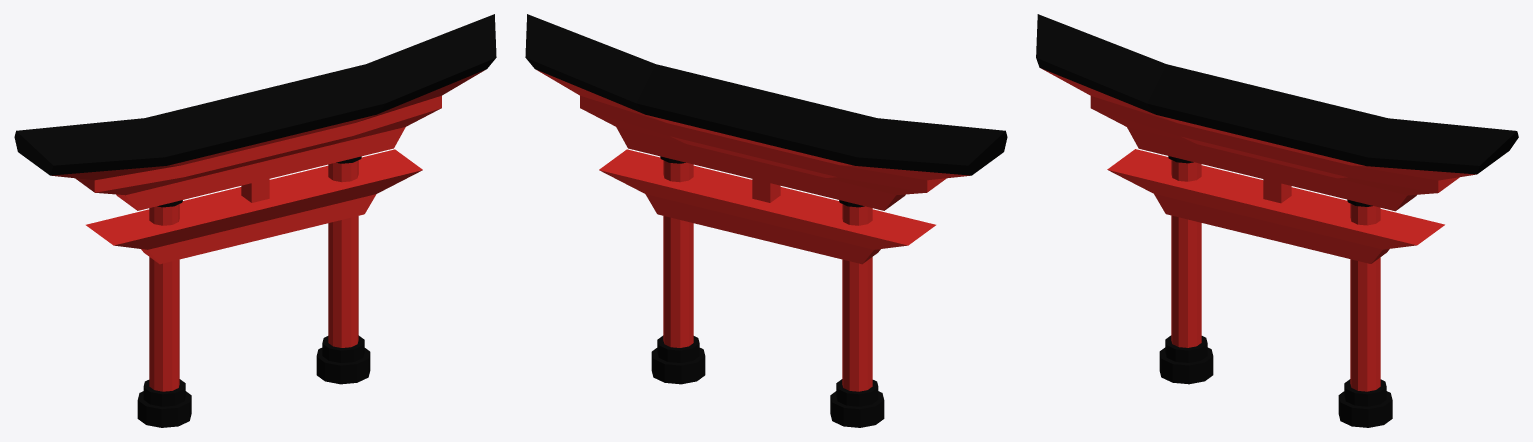
The model's file is Tori_Gate.fbx.
The picture shows the model from 3 angles, left to right: view 1: azimuth 30°, elevation 25°; view 2: azimuth 150°, elevation 25°; view 3: azimuth 330°, elevation 25°; orthographic projection.
Parts seen in each view (by area): view 1: Tori_gate; view 2: Tori_gate; view 3: Tori_gate.
Boxes of the visible parts, left/top/right/bottom form: Tori_gate: left=14, top=14, right=496, bottom=427; Tori_gate: left=525, top=14, right=1007, bottom=427; Tori_gate: left=1036, top=14, right=1518, bottom=427.
Bounding box in the file's own units: 8.03 × 5.16 × 1.14.
